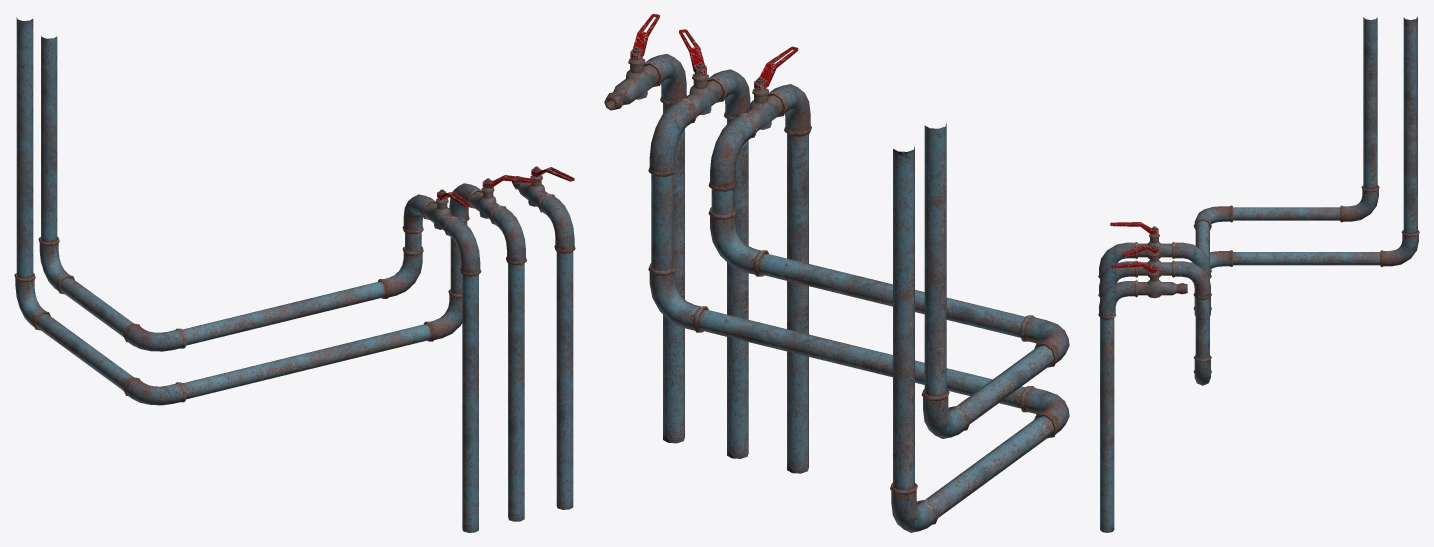
File: pipes.glb
3 renders of one model, left to right at view 1: azimuth 30°, elevation 25°; view 2: azimuth 150°, elevation 25°; view 3: azimuth 270°, elevation 25°, orthographic. The views are drawn at different scales.
Parts seen in each view (by area): view 1: Material2; view 2: Material2; view 3: Material2.
Boxes of the visible parts, left/top/right/bottom form: Material2: left=14, top=17, right=575, bottom=532; Material2: left=604, top=14, right=1069, bottom=532; Material2: left=1098, top=17, right=1419, bottom=532.
Bounding box in the file's own units: 41.09 × 45.69 × 36.21.
1 material, 1 textured.
